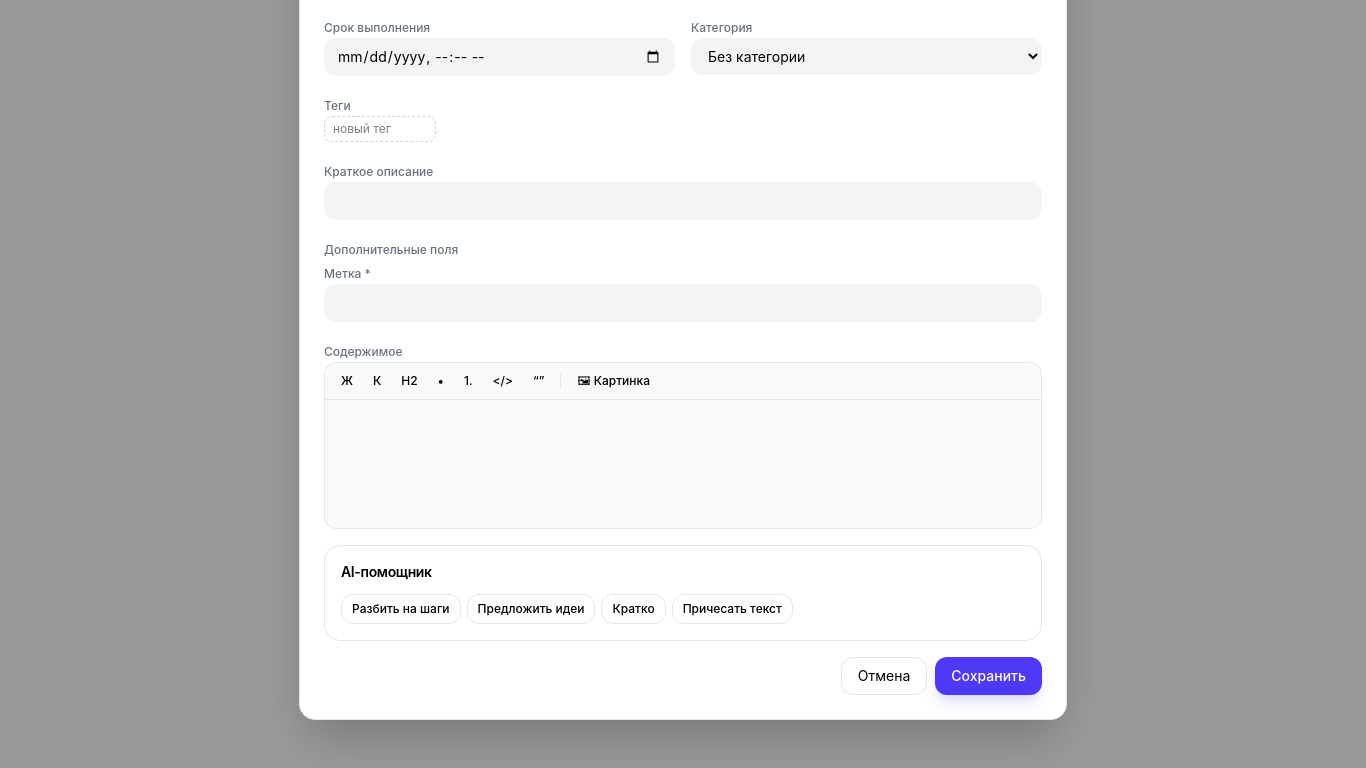
Scenario: TaskDialog: ошибки валидации › показывает ошибку динамического атрибута у его поля
The width and height of the screenshot is (1366, 768).
(page scrolled)
Click the button "Сохранить" at (989, 676), box [935,657,1042,695]
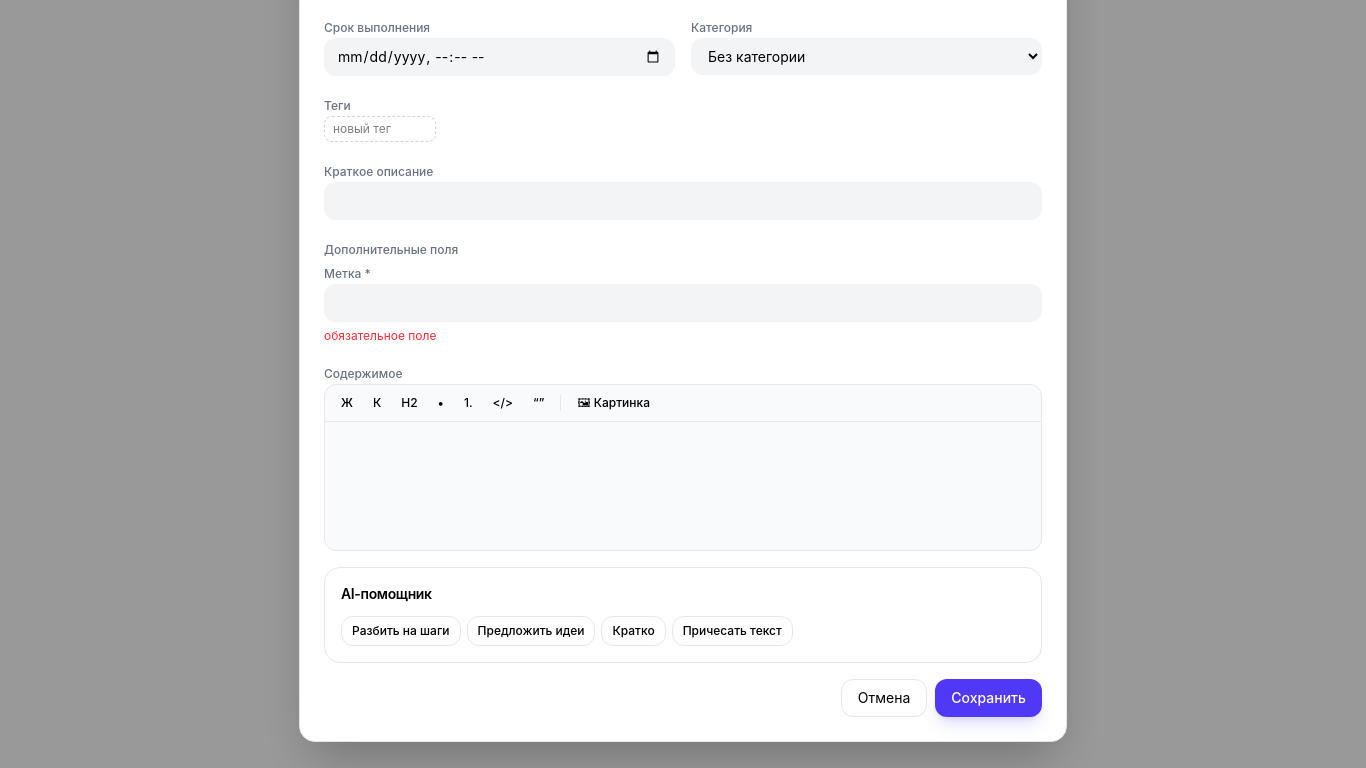
Expected: the text "обязательное поле" is shown, [324,328,436,343]
